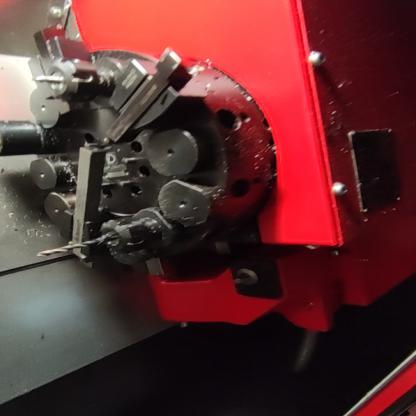bit: (96, 43, 197, 152), (55, 140, 118, 271), (21, 22, 96, 117)
